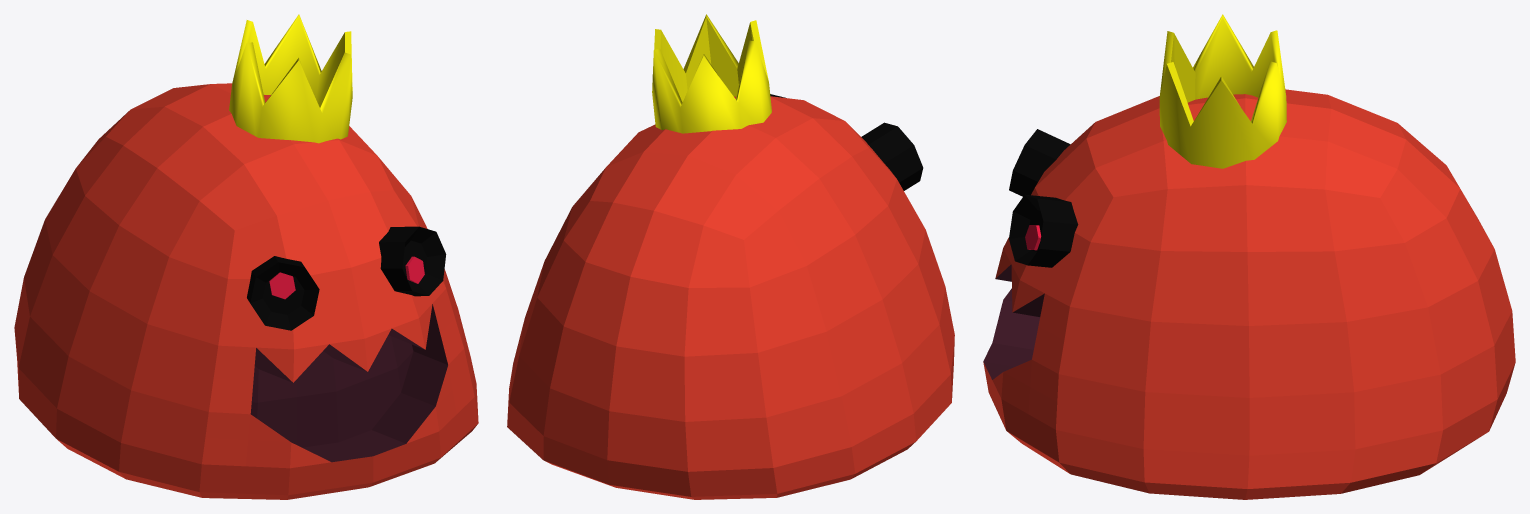
File: SlimeBoss.fbx
3 renders of one model, left to right at view 1: azimuth 30°, elevation 25°; view 2: azimuth 150°, elevation 25°; view 3: azimuth 270°, elevation 25°, orthographic. The views are drawn at different scales.
Visible parts, largest first — view 1: BossSlime; view 2: BossSlime; view 3: BossSlime.
Boxes of the visible parts, x1=… form: BossSlime: x1=14, y1=14, x2=478, y2=499; BossSlime: x1=507, y1=14, x2=954, y2=499; BossSlime: x1=983, y1=14, x2=1515, y2=499.
Bounding box in the file's own units: 801 × 747 × 931.
